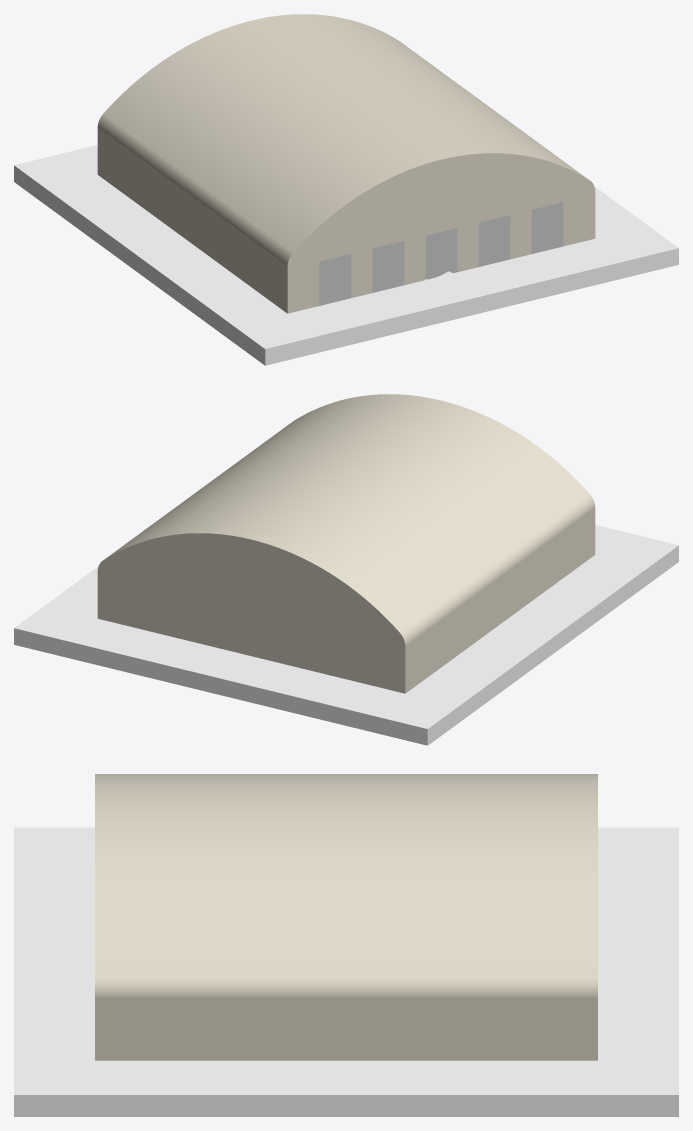
Rendered from warehouse.obj.
3 views of the same model, one above another, from view 1: azimuth 30°, elevation 25°; view 2: azimuth 150°, elevation 25°; view 3: azimuth 270°, elevation 25° (orthographic). The views are drawn at different scales.
Visible parts, largest first — view 1: Part_Studio_1_-_Part_7, Part_Studio_1_-_Part_6, Part_Studio_1_-_Part_8, Part_Studio_1_-_Part_2, Part_Studio_1_-_Part_4, Part_Studio_1_-_Part_1, Part_Studio_1_-_Part_3, Part_Studio_1_-_Part_5; view 2: Part_Studio_1_-_Part_7, Part_Studio_1_-_Part_6, Part_Studio_1_-_Part_8; view 3: Part_Studio_1_-_Part_7, Part_Studio_1_-_Part_6, Part_Studio_1_-_Part_8.
Boxes of the visible parts, x1,y1,x2,y2 form: Part_Studio_1_-_Part_7: [103, 14, 588, 252]; Part_Studio_1_-_Part_6: [14, 145, 678, 365]; Part_Studio_1_-_Part_8: [97, 113, 595, 313]; Part_Studio_1_-_Part_2: [372, 241, 404, 292]; Part_Studio_1_-_Part_4: [531, 202, 563, 253]; Part_Studio_1_-_Part_1: [319, 254, 351, 305]; Part_Studio_1_-_Part_3: [478, 215, 510, 266]; Part_Studio_1_-_Part_5: [425, 228, 457, 279]; Part_Studio_1_-_Part_7: [104, 394, 589, 632]; Part_Studio_1_-_Part_6: [14, 525, 678, 745]; Part_Studio_1_-_Part_8: [97, 493, 595, 693]; Part_Studio_1_-_Part_7: [95, 774, 597, 977]; Part_Studio_1_-_Part_6: [14, 827, 678, 1116]; Part_Studio_1_-_Part_8: [95, 978, 597, 1060].
Bounding box in the file's own units: 78 × 24 × 82.
